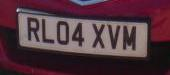4: (71, 22, 85, 47)
L: (41, 18, 54, 44)
M: (122, 24, 137, 52)
O: (56, 20, 70, 45)
R: (27, 17, 40, 42)
V: (106, 24, 121, 50)
X: (91, 23, 105, 49)
